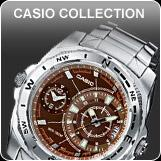watch: (7, 41, 161, 161)
